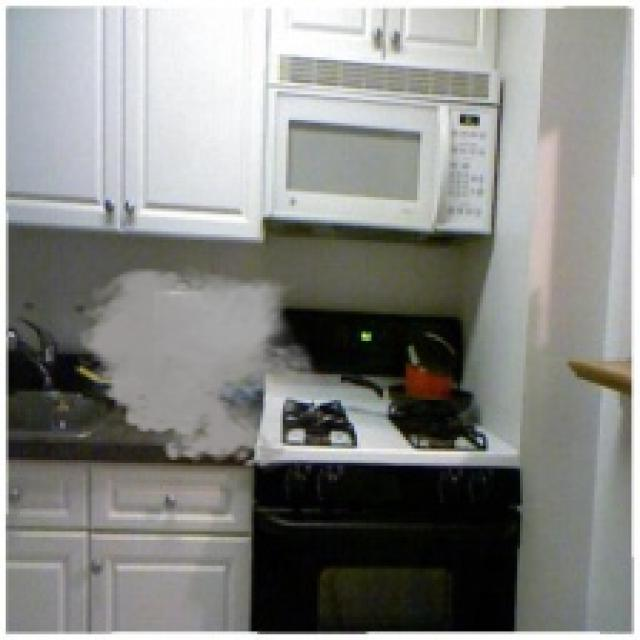smoke: (72, 260, 328, 474)
